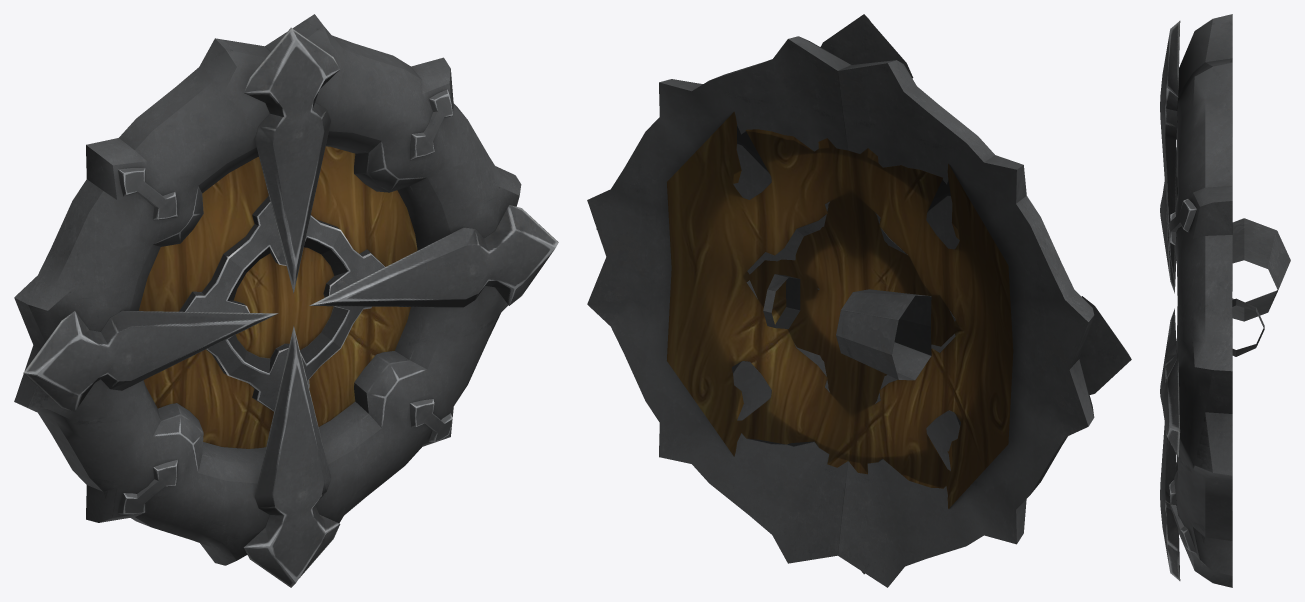
The model's file is Shield.fbx.
3 renders of one model, left to right at view 1: azimuth 30°, elevation 25°; view 2: azimuth 150°, elevation 25°; view 3: azimuth 270°, elevation 25°, orthographic.
Visible parts, largest first — view 1: polySurface73; view 2: polySurface73; view 3: polySurface73.
Boxes of the visible parts, x1=… form: polySurface73: x1=14, y1=14, x2=558, y2=587; polySurface73: x1=587, y1=14, x2=1131, y2=587; polySurface73: x1=1160, y1=14, x2=1290, y2=587.
Bounding box in the file's own units: 9.41 × 9.41 × 1.99.
1 material, 1 textured.
